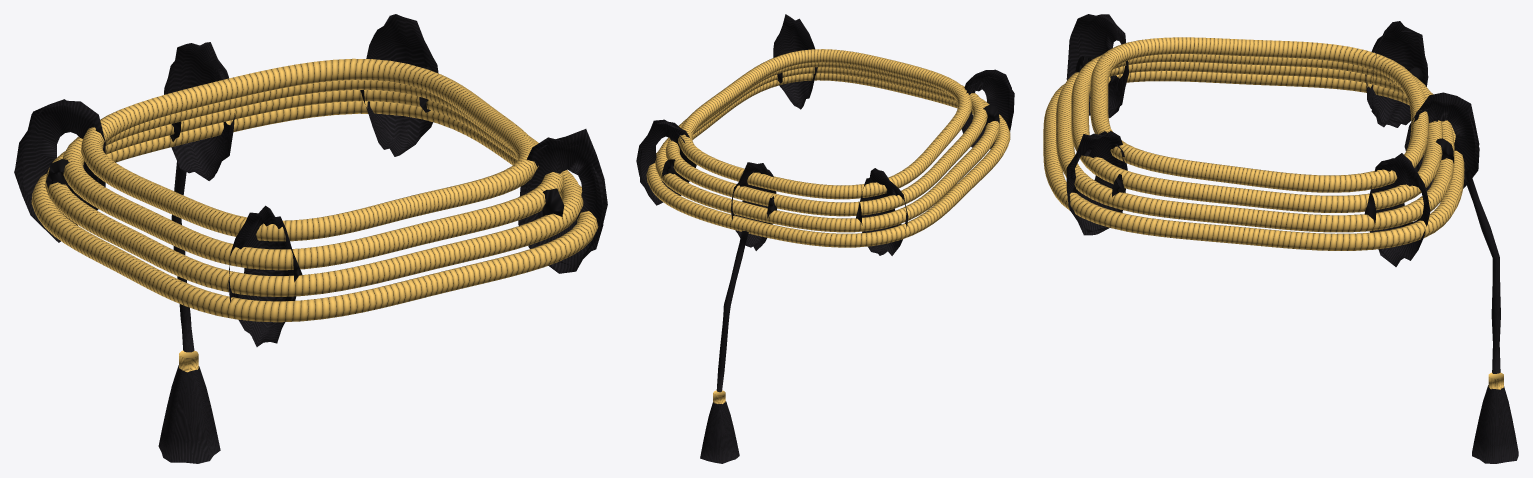
The model's file is agal_muqassab.glb.
3 views of the same model, side by side, from view 1: azimuth 30°, elevation 25°; view 2: azimuth 150°, elevation 25°; view 3: azimuth 270°, elevation 25° (orthographic). The views are drawn at different scales.
Parts seen in each view (by area): view 1: AgalGold; view 2: AgalGold; view 3: AgalGold.
Boxes of the visible parts, bbox=[...] form: AgalGold: bbox=[14, 14, 607, 463]; AgalGold: bbox=[636, 14, 1014, 463]; AgalGold: bbox=[1043, 14, 1518, 463].
Bounding box in the file's own units: 0.2785 × 0.2944 × 0.3288.
Materials: 2 (2 with a texture image).
